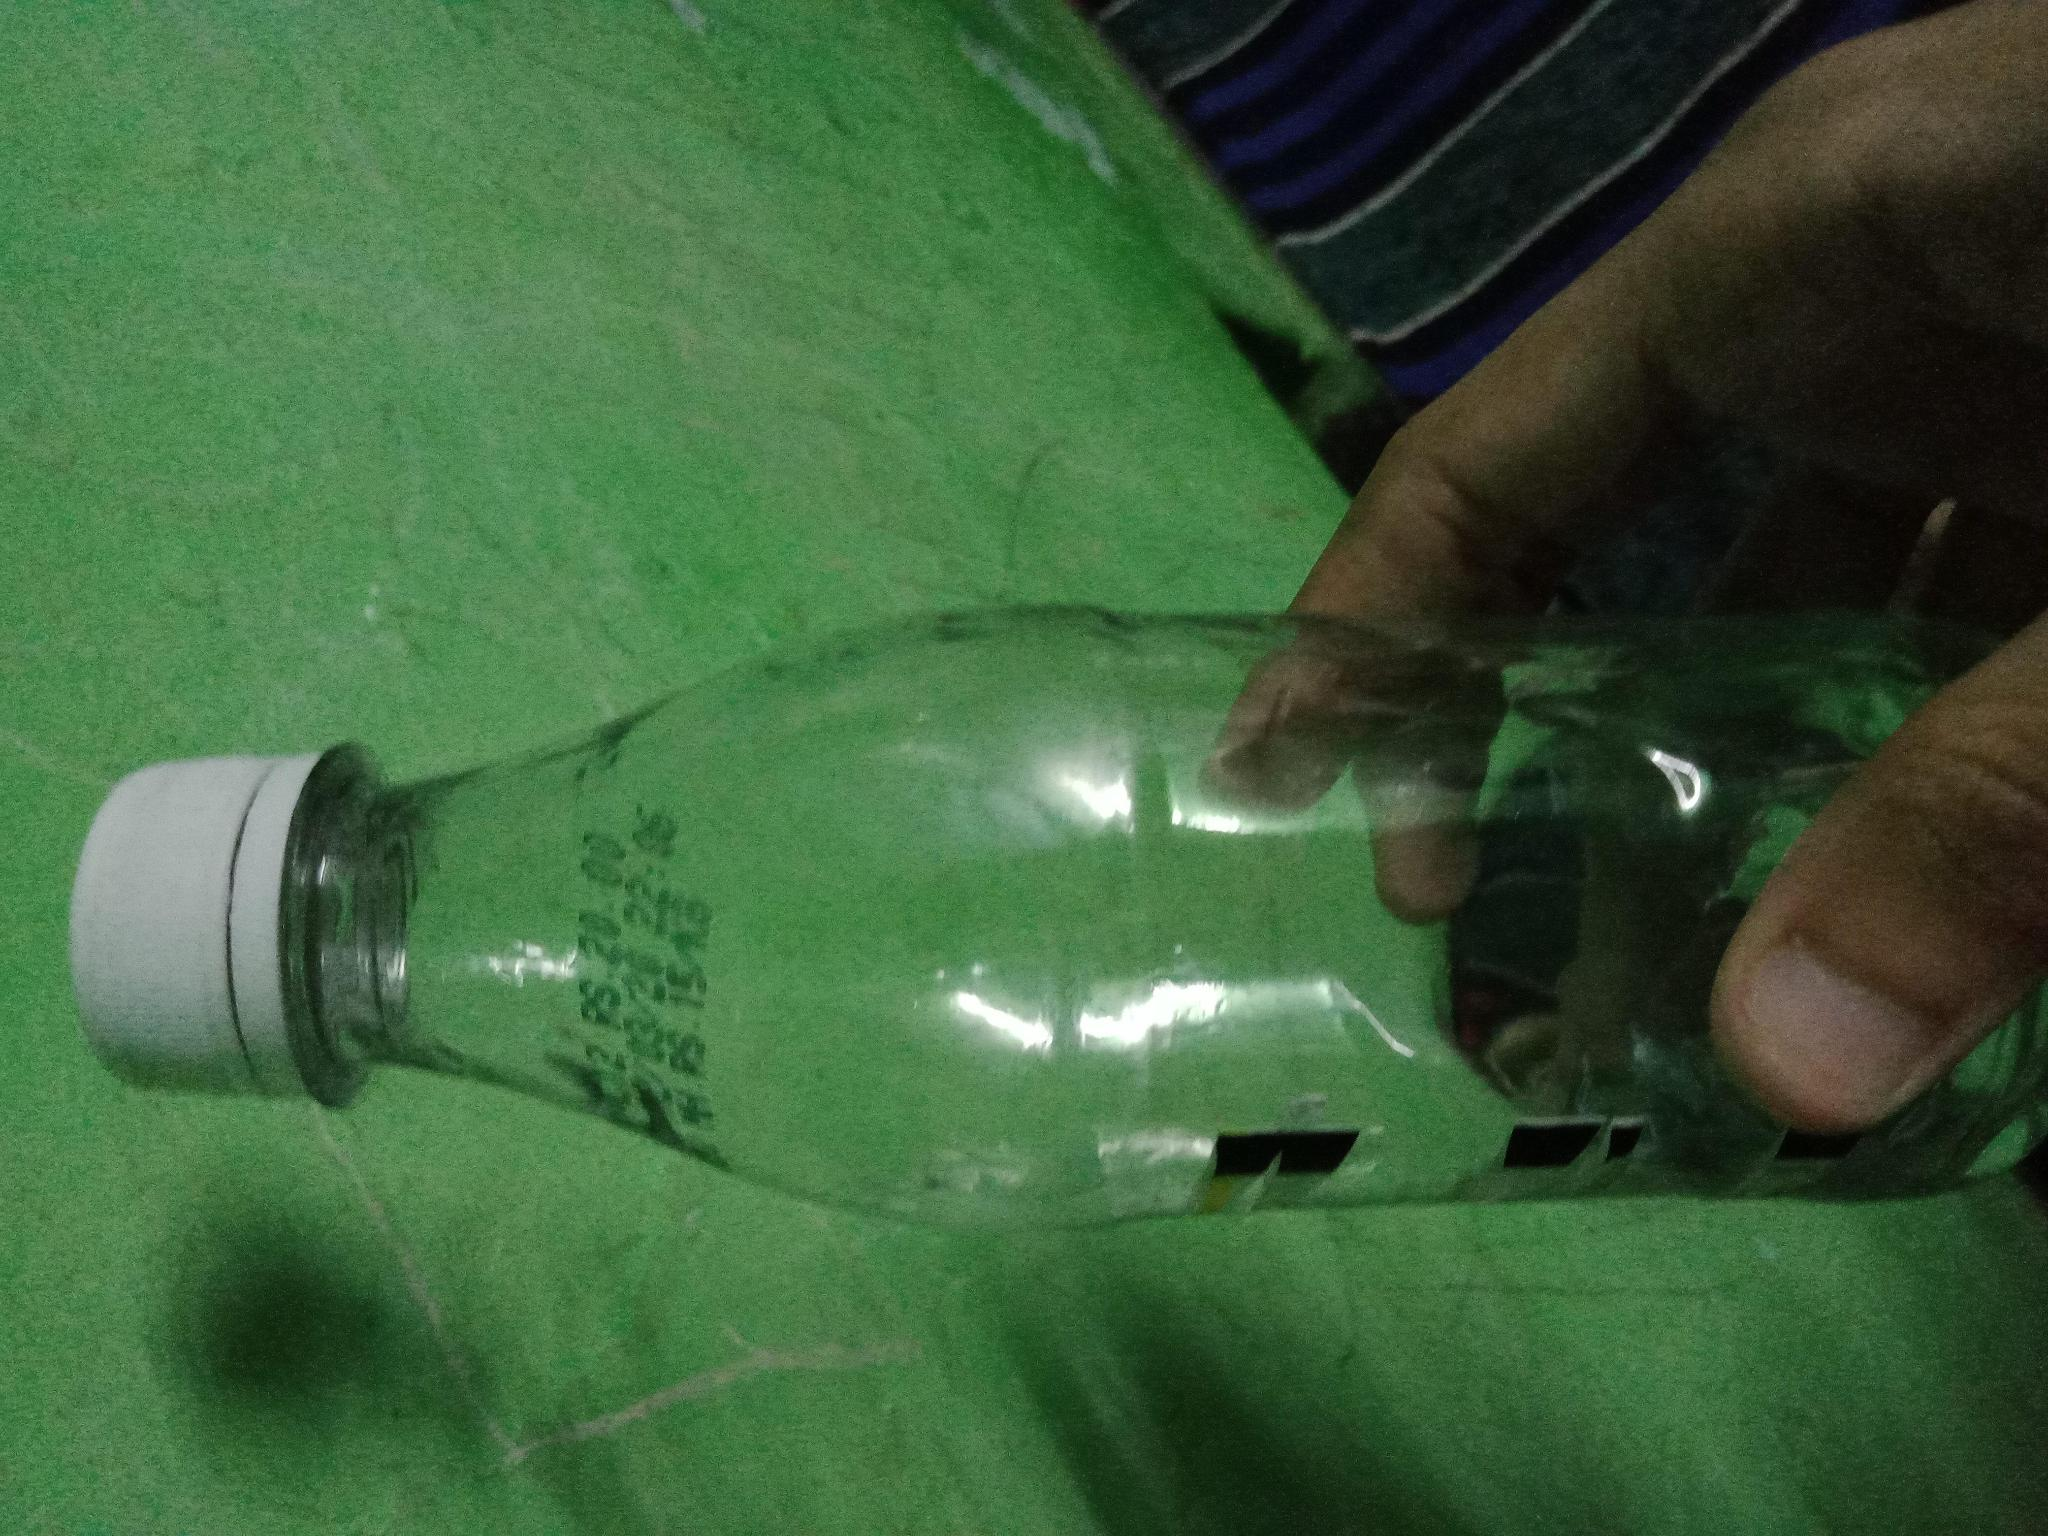bottle: (45, 602, 2048, 1258)
